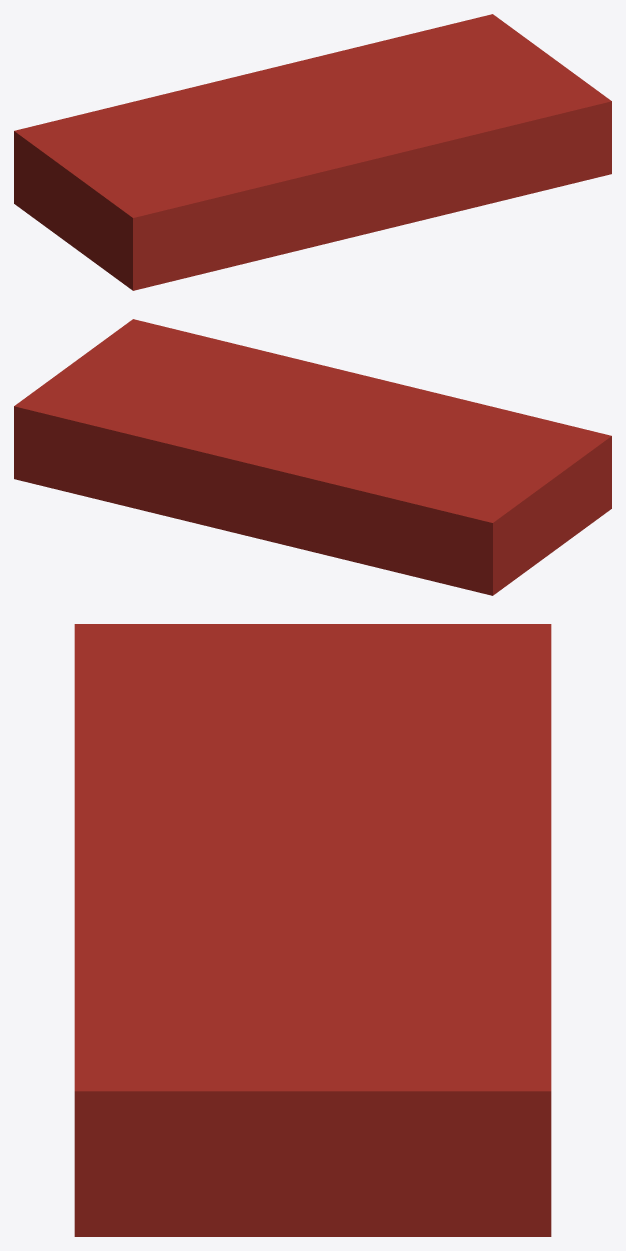
Rendered from SM_12_Hall_WallShell.fbx.
The picture shows the model from 3 angles, top to bottom: view 1: azimuth 30°, elevation 25°; view 2: azimuth 150°, elevation 25°; view 3: azimuth 270°, elevation 25°; orthographic projection. The views are drawn at different scales.
Visible parts, largest first — view 1: Hall_WallShell; view 2: Hall_WallShell; view 3: Hall_WallShell.
Part boxes in pixels (x1,y1,x2,y2): Hall_WallShell: [14, 14, 611, 290]; Hall_WallShell: [14, 319, 611, 595]; Hall_WallShell: [74, 624, 551, 1236].
Size of the model in its own units: 4060 by 1750 by 590.
